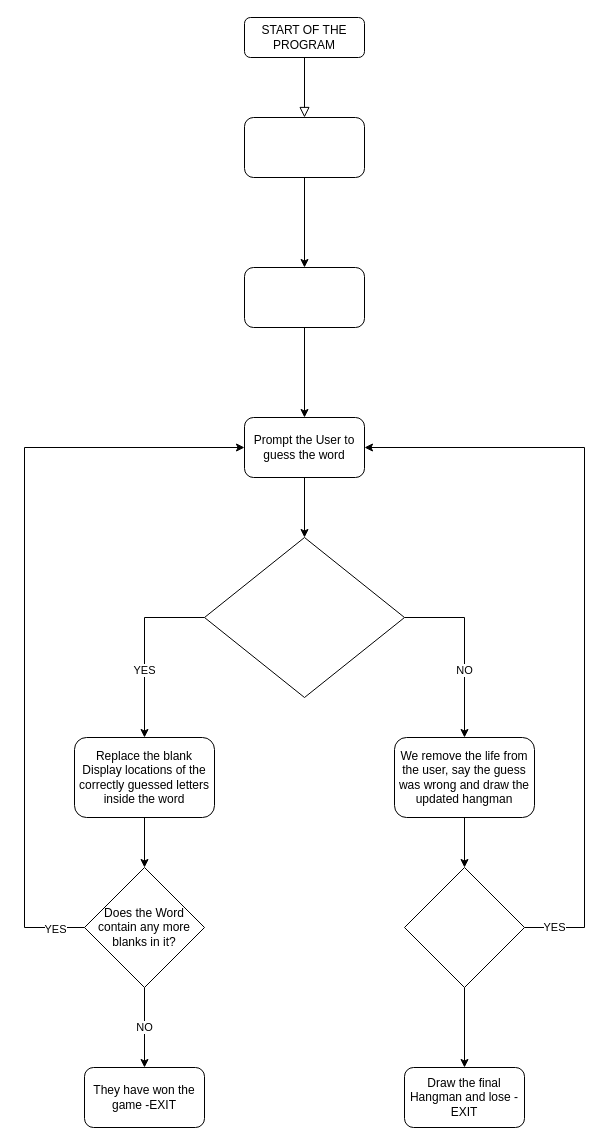
The diagram is 610 pixels wide and 1145 high, and some of its shapes have lost their labels. Here are the shapes that lost their labels. From the top down, the box of each, then its label:
(244, 116, 364, 178): Generate the random word from the list of words for the user to guess
(244, 266, 364, 328): Generate the blanks from the word that was picked
(204, 536, 404, 698): User entered the letter that is consisted in the word?
(404, 866, 524, 988): Do they have lives remaining?
